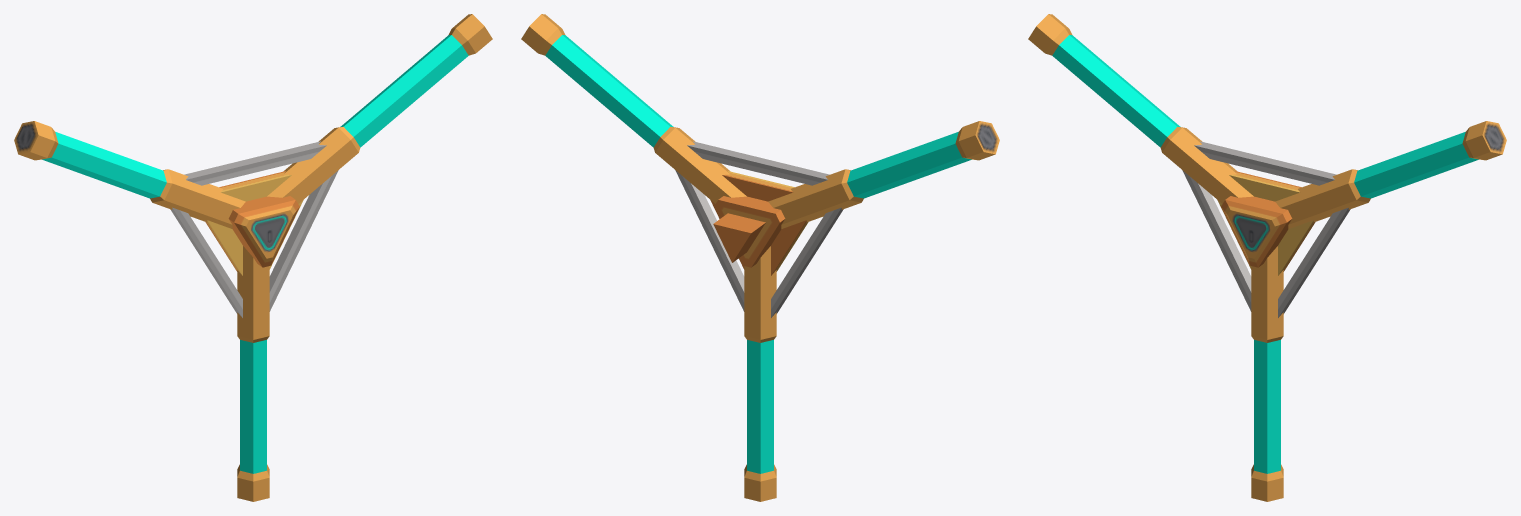
Rendered from SM_Prop_Lamp_03.fbx.
The picture shows the model from 3 angles, left to right: view 1: azimuth 30°, elevation 25°; view 2: azimuth 150°, elevation 25°; view 3: azimuth 330°, elevation 25°; orthographic projection.
Visible parts, largest first — view 1: SM_Prop_Lamp_03; view 2: SM_Prop_Lamp_03; view 3: SM_Prop_Lamp_03.
Boxes of the visible parts, x1=… form: SM_Prop_Lamp_03: x1=14, y1=14, x2=492, y2=501; SM_Prop_Lamp_03: x1=521, y1=14, x2=999, y2=501; SM_Prop_Lamp_03: x1=1028, y1=14, x2=1506, y2=501.
Size of the model in its own units: 127 by 110 by 20.84.
